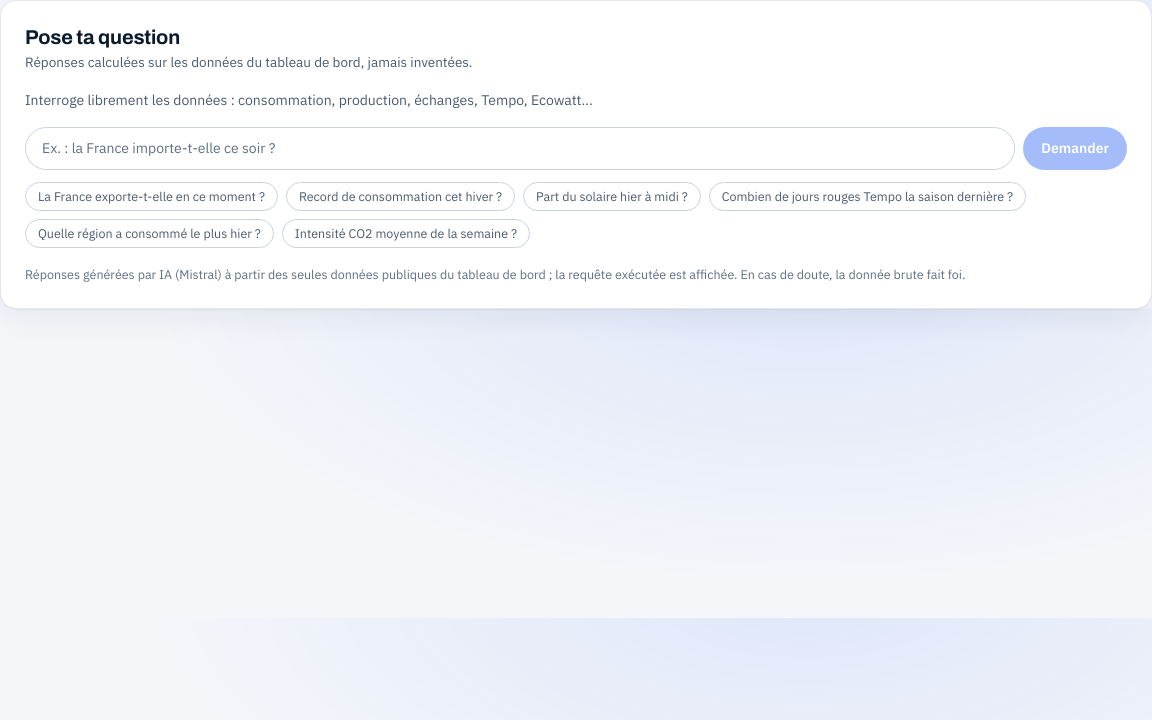
Test: ChatSection › un refus du serveur s affiche tel quel, sans requête SQL
Type "Quel temps fera-t-il demain ?" into the field named "Ta question" at (520,149), box [25,127,1015,170]
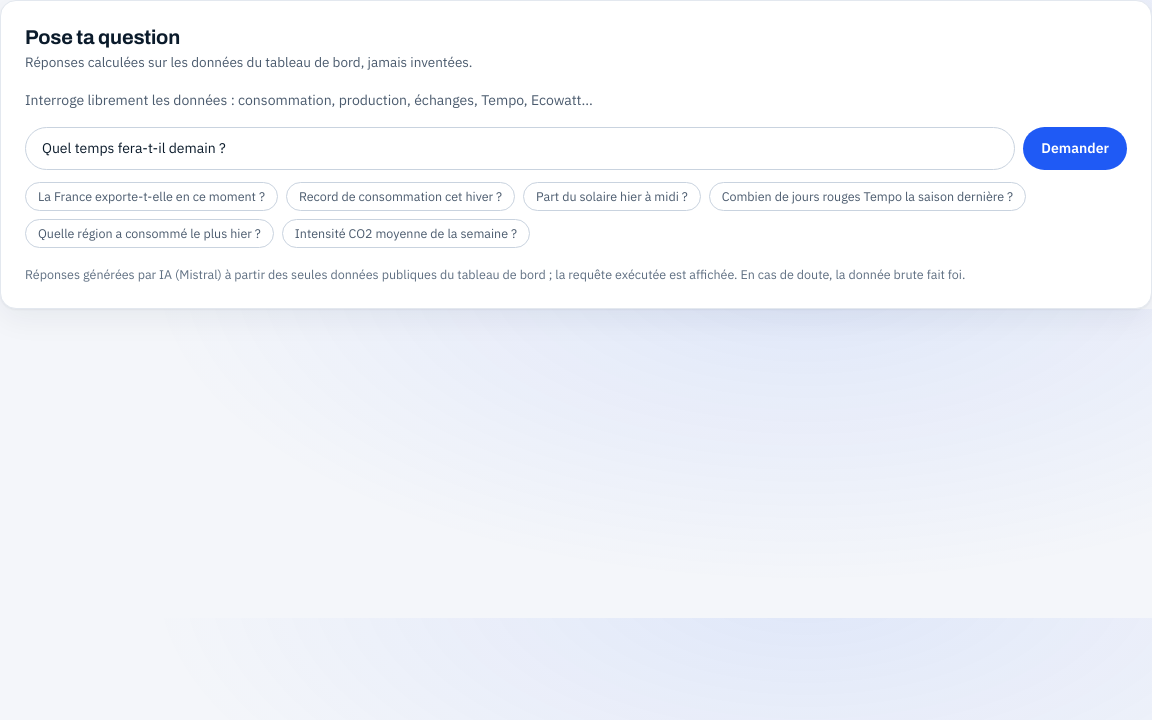
Click the button "Demander" at (1075,149), box [1023,127,1127,170]
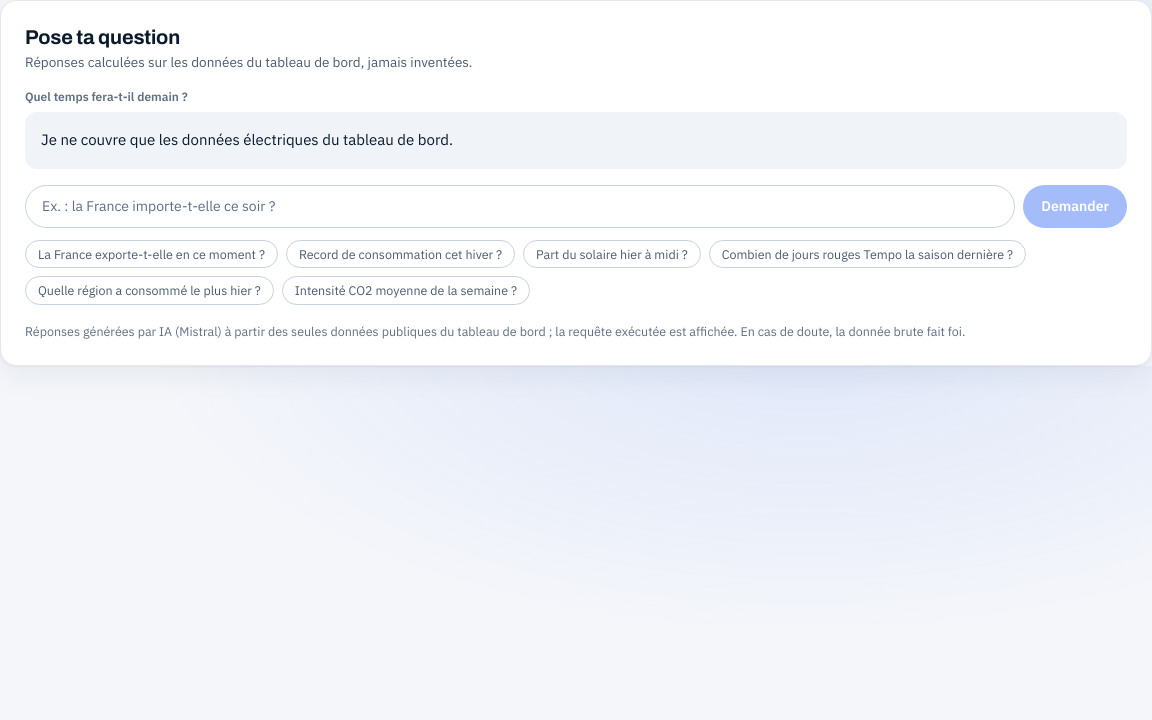
Expected: the text "Je ne couvre que les données électriques du tableau de bord." is shown, [41,130,453,149]
